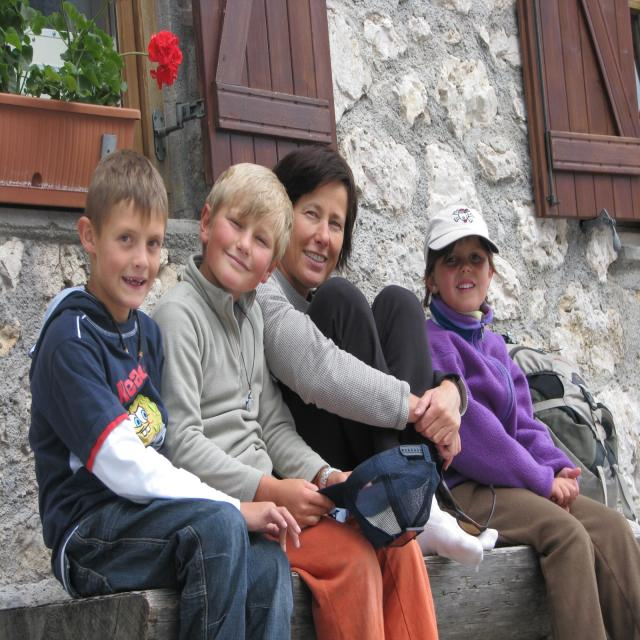body: (150, 160, 439, 640), (29, 145, 301, 640), (244, 137, 502, 577), (422, 202, 638, 640)
